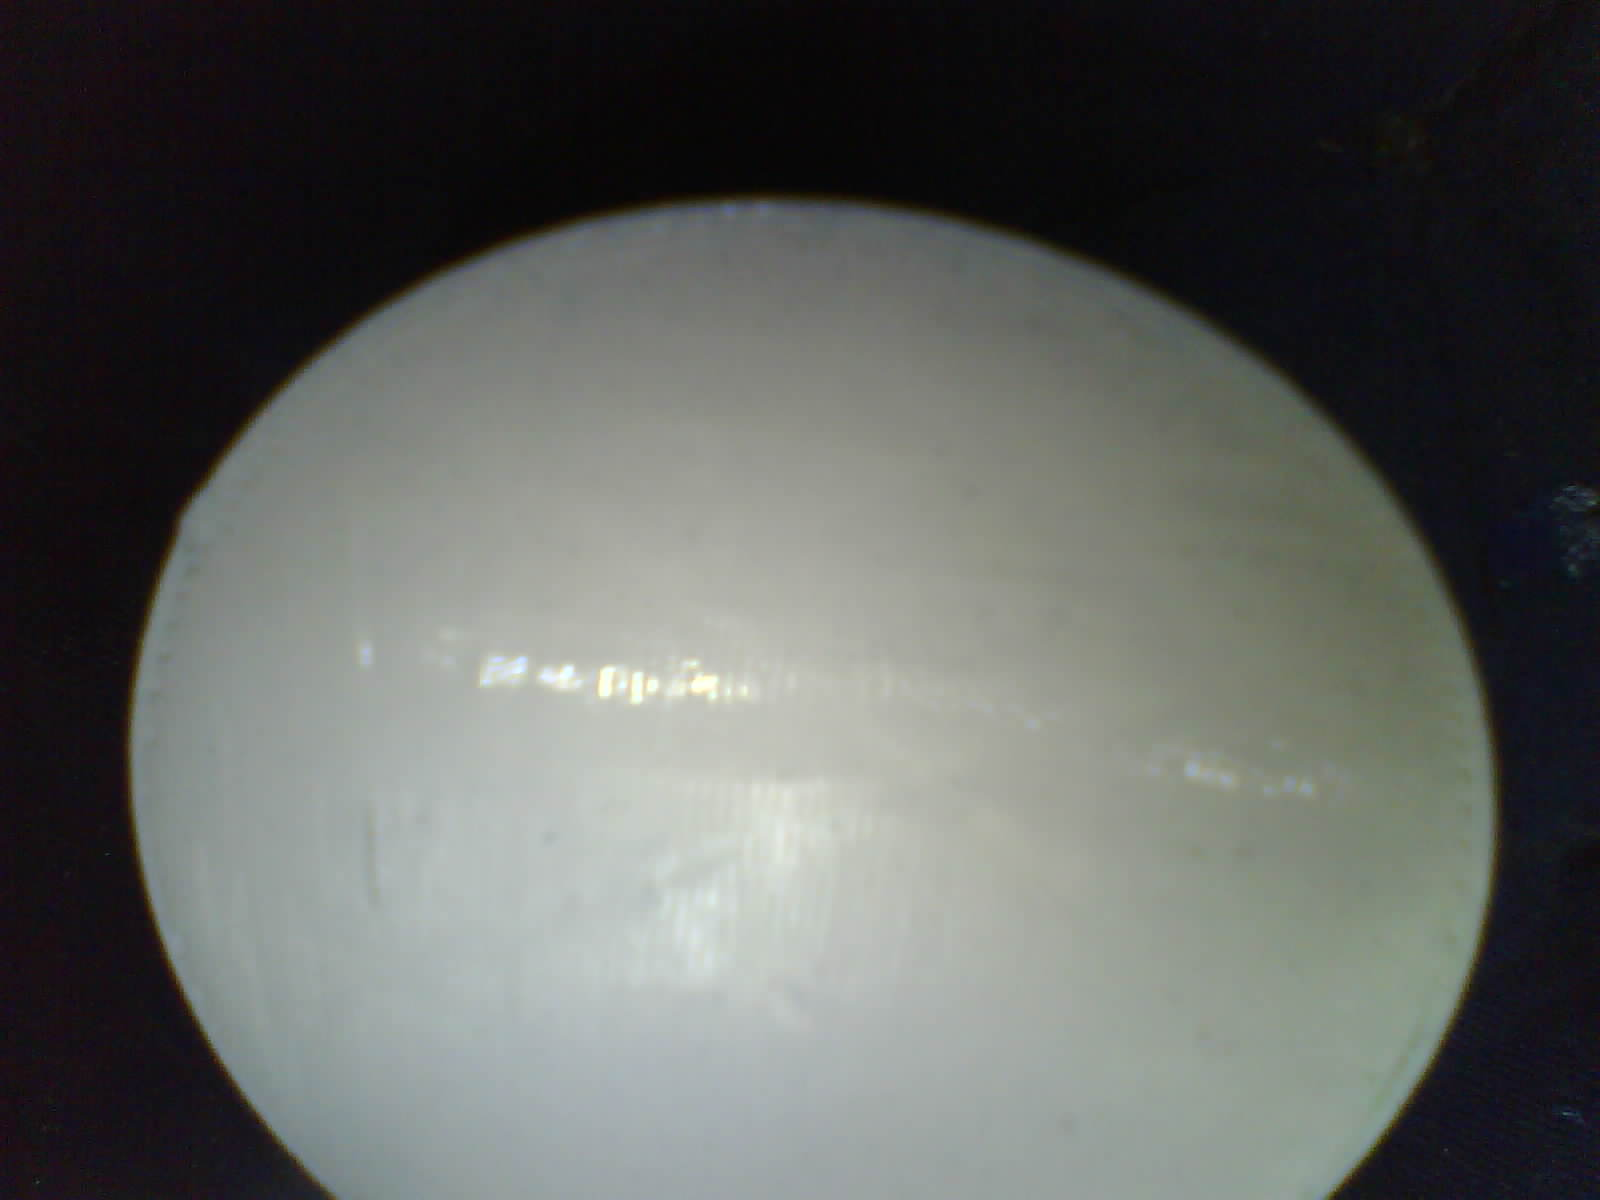cylinder-hard: (106, 174, 1542, 1200)
